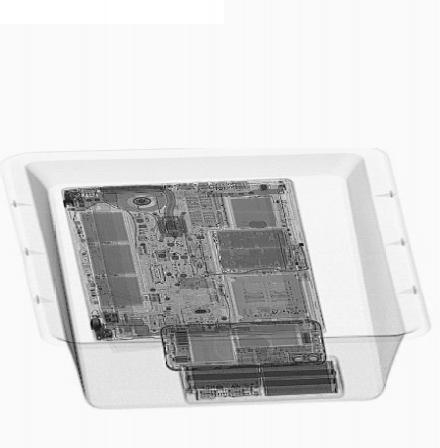Powerbank: (179, 357, 346, 403)
